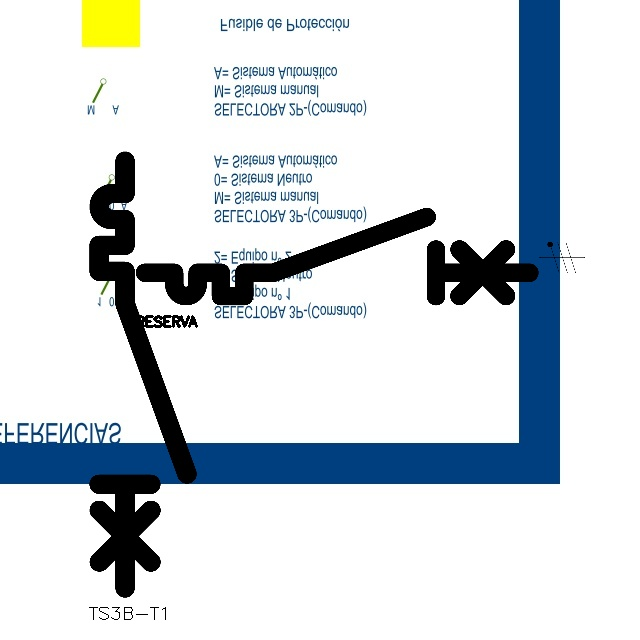interruptor_termomagnetico: (88, 150, 198, 599), (135, 207, 539, 306)
